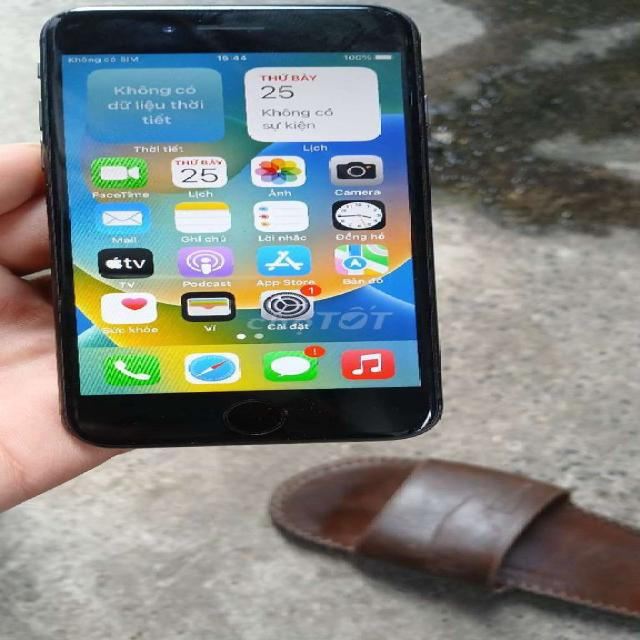scratch: (352, 2, 419, 48), (392, 402, 450, 448)
